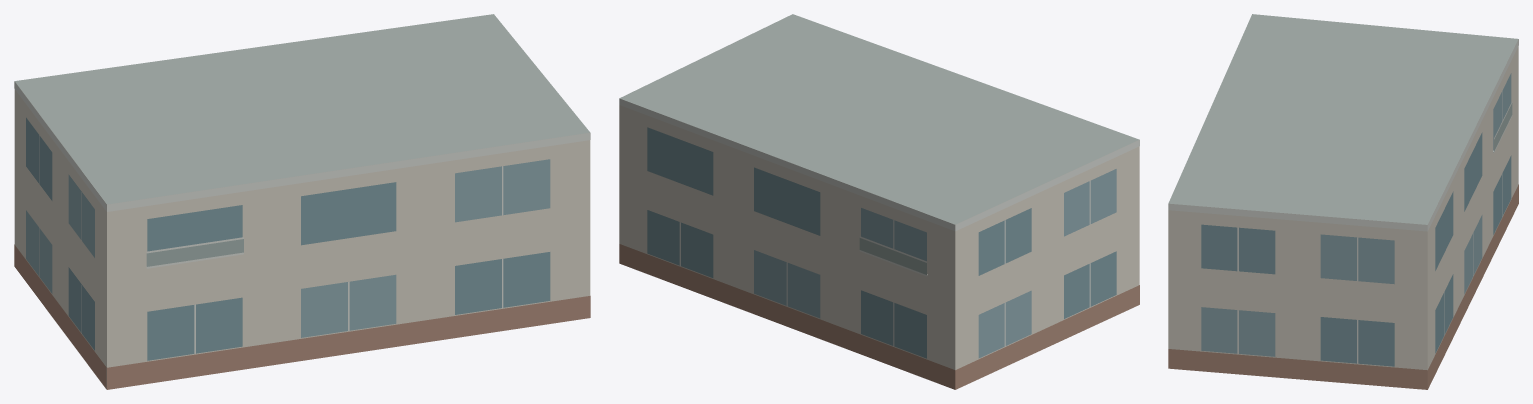
The model's file is survey-upis-32870323.glb.
3 renders of one model, left to right at view 1: azimuth 30°, elevation 25°; view 2: azimuth 150°, elevation 25°; view 3: azimuth 270°, elevation 25°, orthographic. The views are drawn at different scales.
Visible parts, largest first — view 1: survey-upis-32870323.tmp; view 2: survey-upis-32870323.tmp; view 3: survey-upis-32870323.tmp.
Part boxes in pixels (left/top/right/bottom): survey-upis-32870323.tmp: left=14, top=14, right=590, bottom=389; survey-upis-32870323.tmp: left=619, top=14, right=1139, bottom=389; survey-upis-32870323.tmp: left=1168, top=14, right=1518, bottom=389.
Size of the model in its own units: 16.74 by 6.1 by 11.76.
